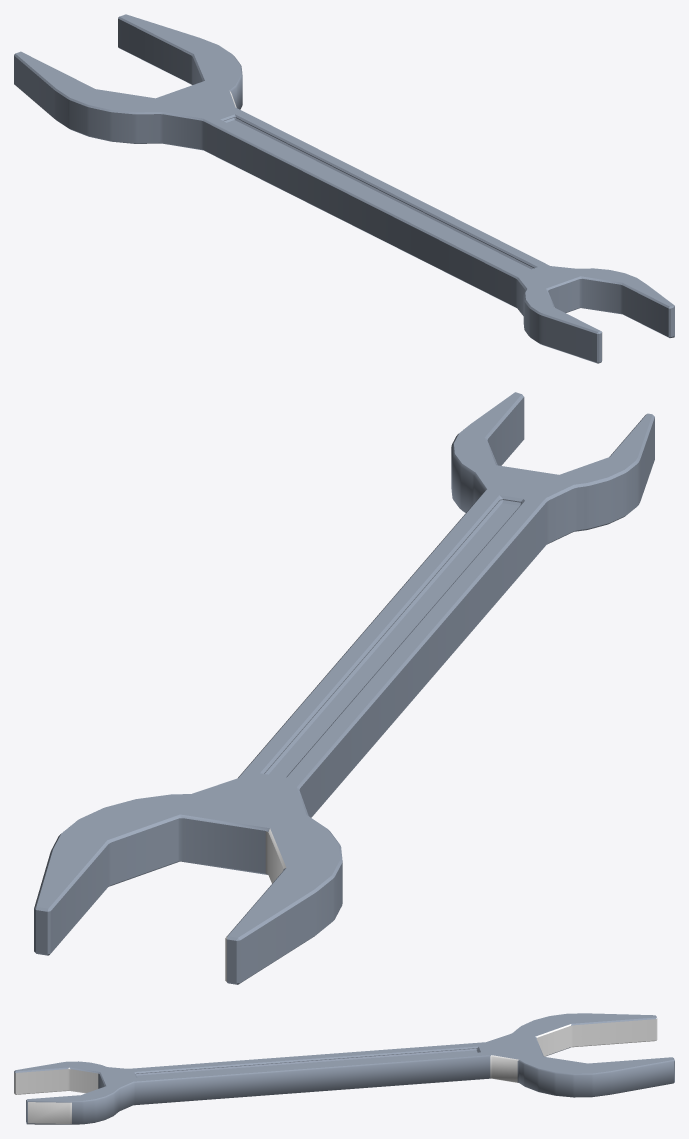
The model's file is outil 09.FBX.
3 views of the same model, one above another, from view 1: azimuth 30°, elevation 25°; view 2: azimuth 150°, elevation 25°; view 3: azimuth 270°, elevation 25° (orthographic). The views are drawn at different scales.
Visible parts, largest first — view 1: Mesh05; view 2: Mesh05; view 3: Mesh05.
Part boxes in pixels (x1,y1,x2,y2): Mesh05: (14,14,674,363); Mesh05: (34,392,654,984); Mesh05: (14,1013,674,1124).
Size of the model in its own units: 0.5082 by 0.0629 by 1.6.
